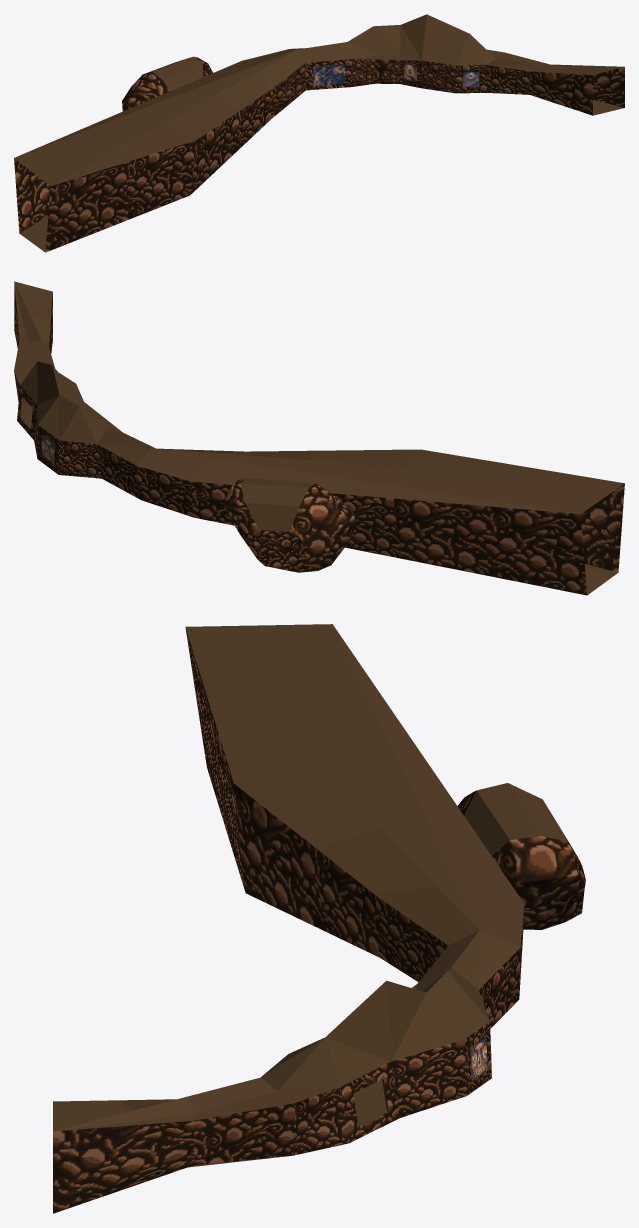
The model's file is Pasillo Largo.fbx.
3 views of the same model, one above another, from view 1: azimuth 30°, elevation 25°; view 2: azimuth 150°, elevation 25°; view 3: azimuth 270°, elevation 25° (orthographic). The views are drawn at different scales.
Parts seen in each view (by area): view 1: Pasillo; view 2: Pasillo; view 3: Pasillo.
Boxes of the visible parts, x1,y1,x2,y2 form: Pasillo: (14,14,624,252); Pasillo: (14,281,624,595); Pasillo: (53,624,585,1213).
Bounding box in the file's own units: 39205 × 16721 × 7027.
Materials: 3 (2 with a texture image).
